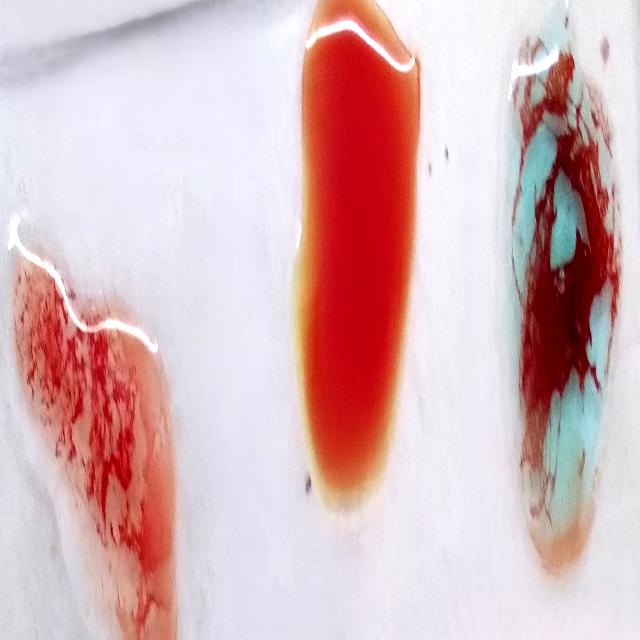A: (504, 39, 621, 565)
D: (9, 208, 176, 638)
